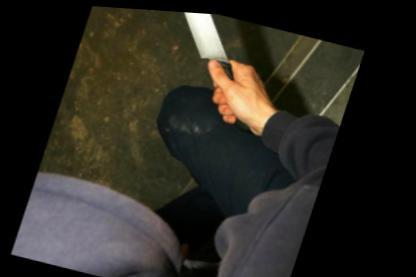knife: (113, 6, 267, 110)
